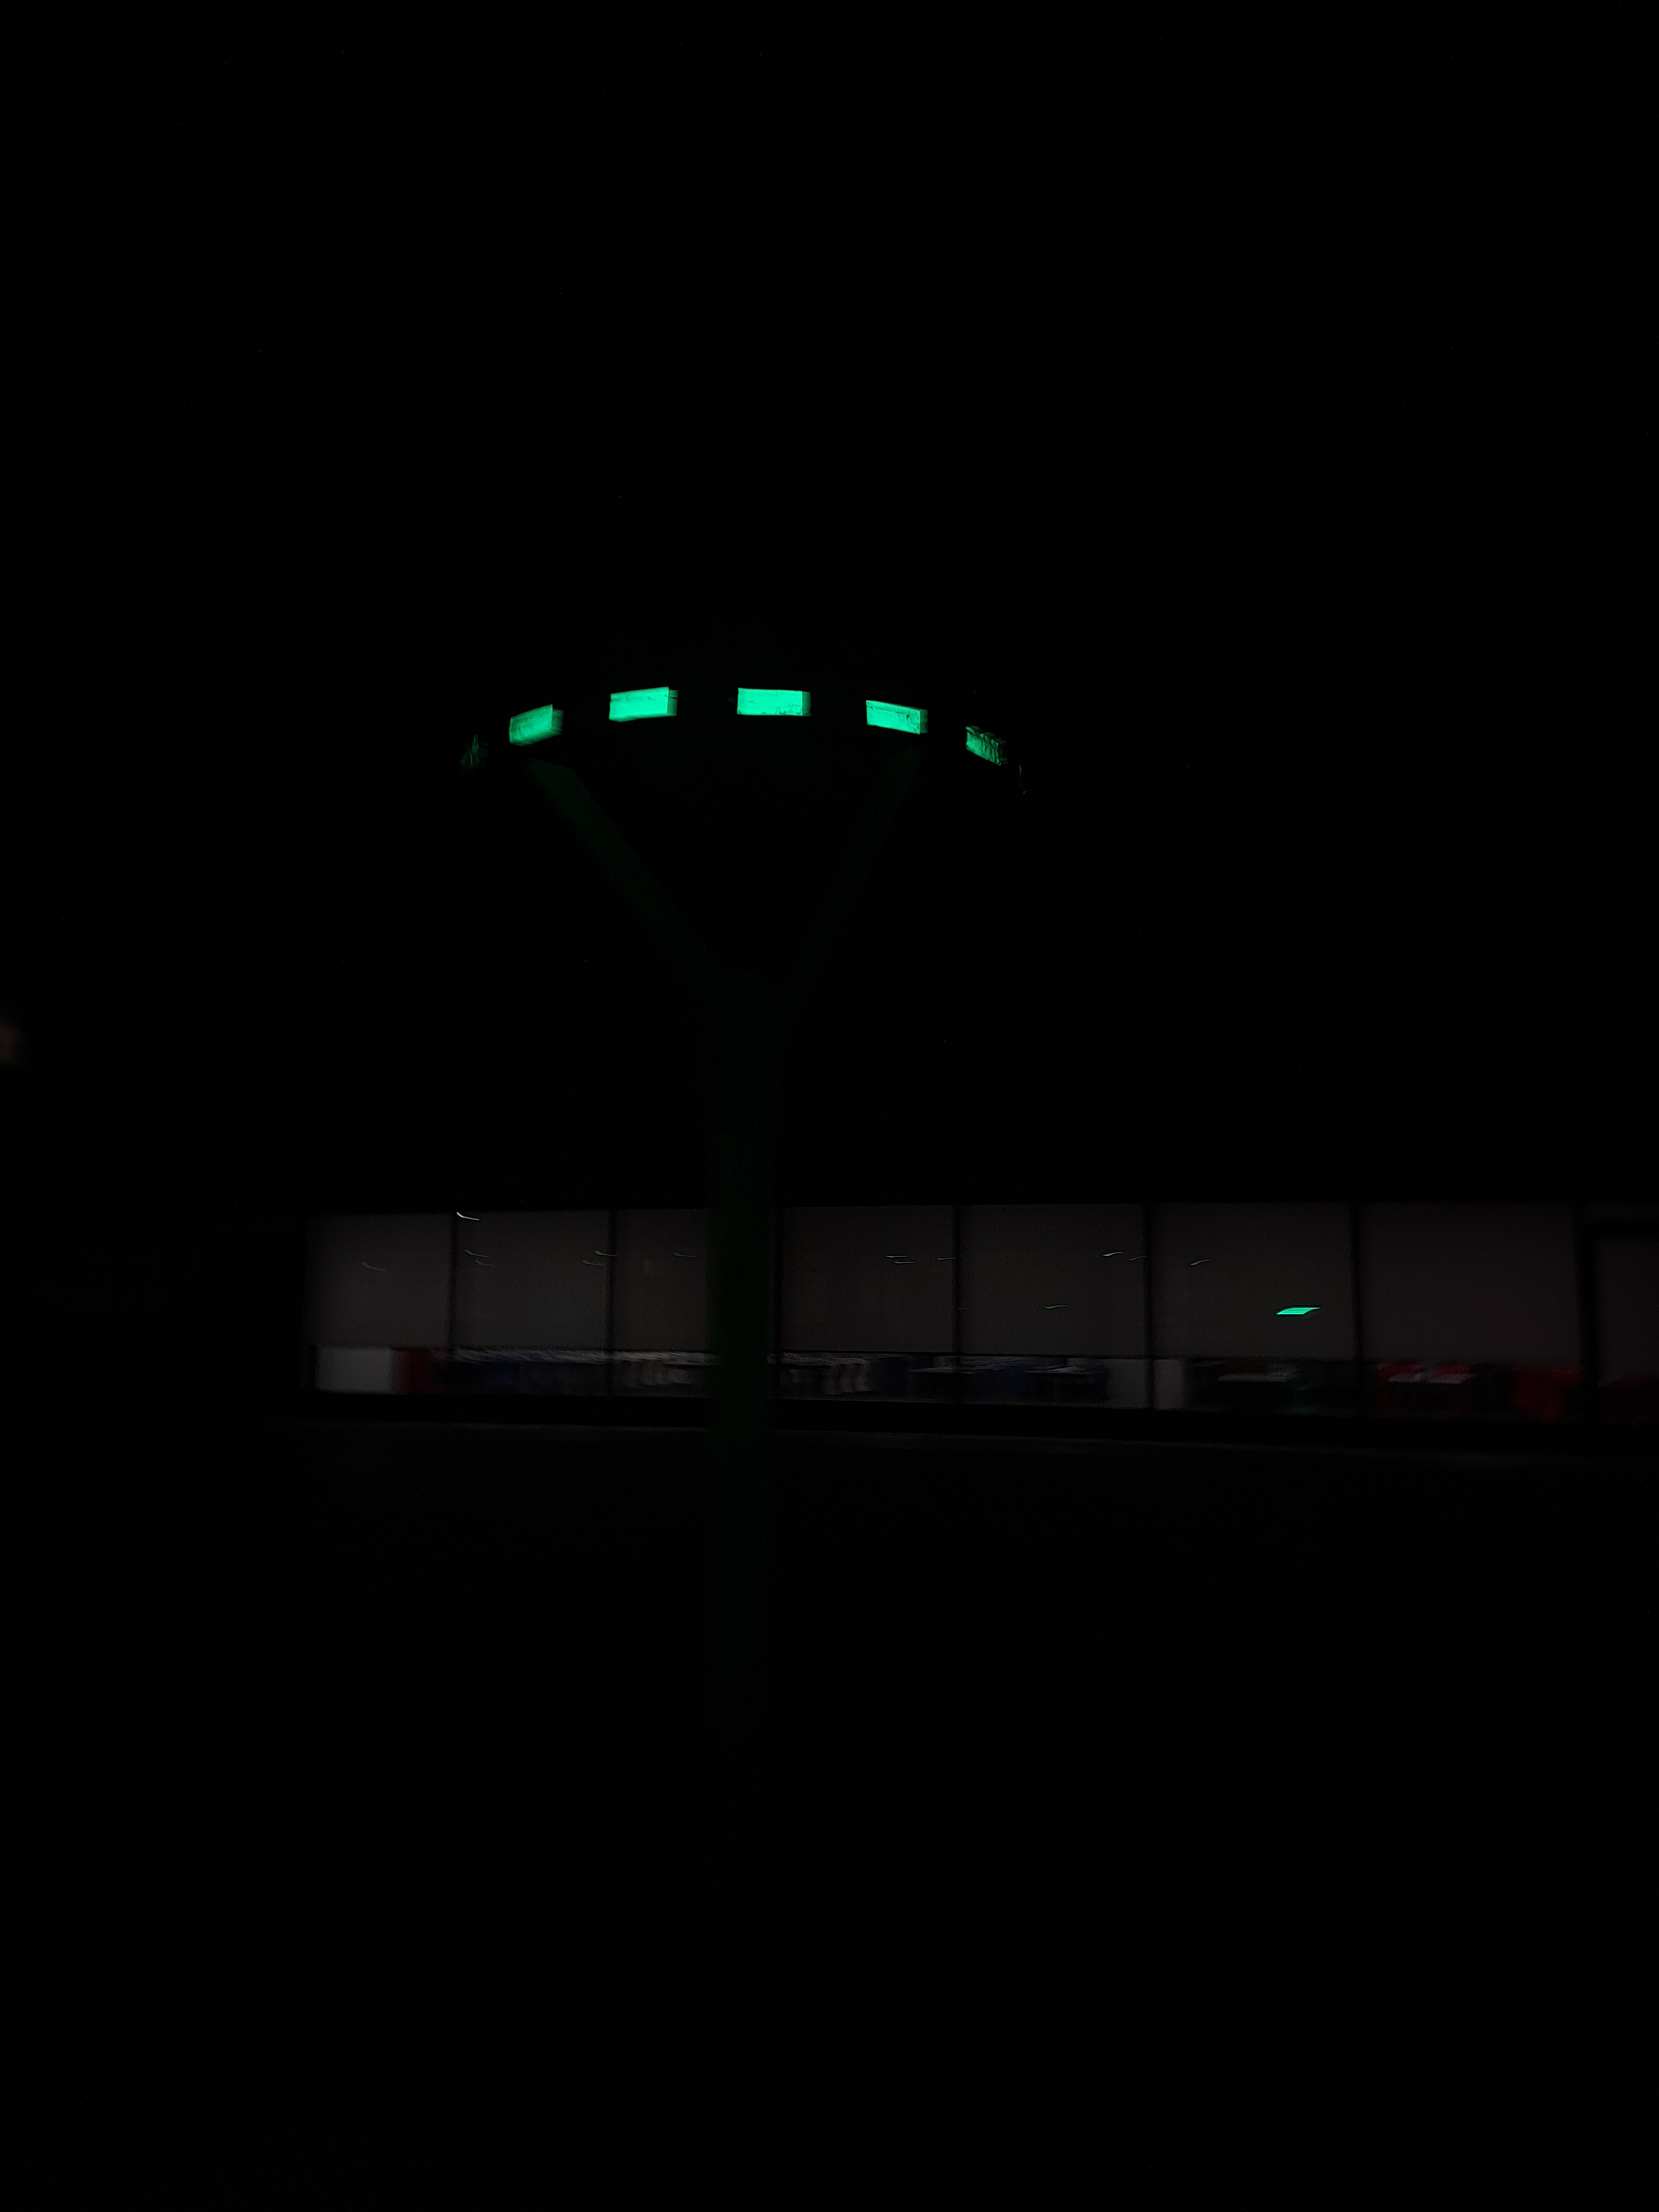hoop: (497, 681, 1012, 775)
